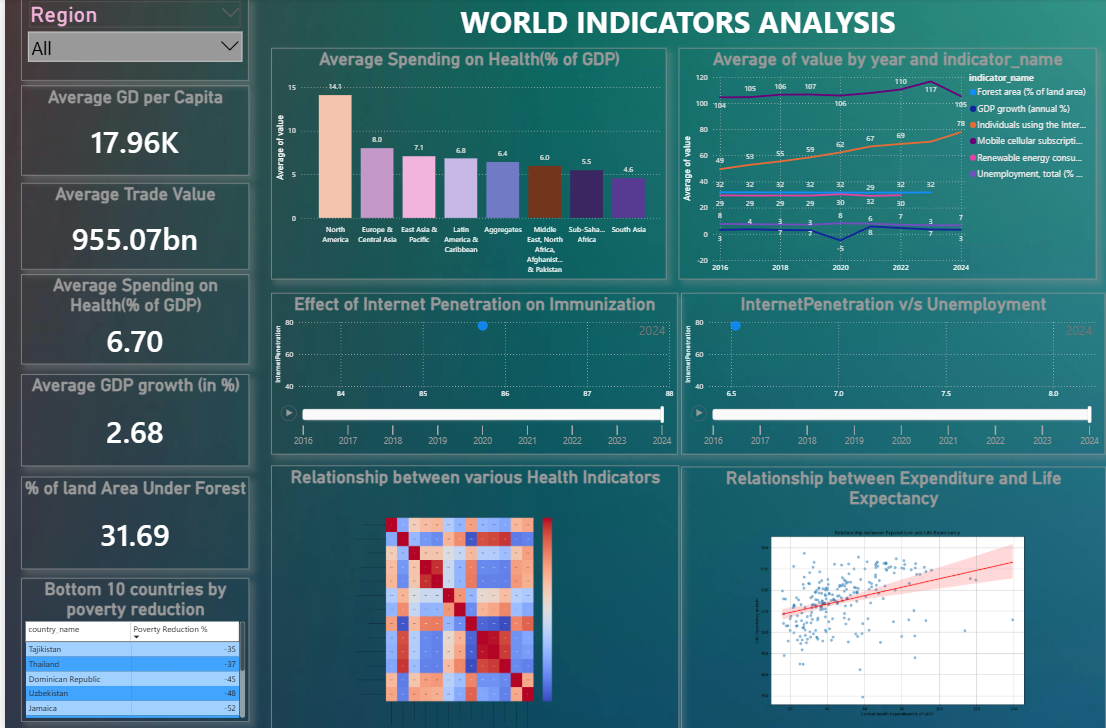

The dashboard page shown, as its layout file describes it:
{"tool":"powerbi","page":{"name":"Page 1","canvas":[1800,1200],"ordinal":0},"visuals":[{"type":"textbox","box":[697.3,0,807.8,81.8],"z":0},{"type":"cardVisual","title":"Average GD per Capita","fields":{"Data":["Avg(economic.value)"]},"box":[26.2,143.8,372.5,147.5],"z":1000},{"type":"cardVisual","title":"Average Trade Value","fields":{"Data":["Avg(trade.value)"]},"box":[26.2,302.5,372.5,141.2],"z":2000},{"type":"cardVisual","title":"Average Spending on Health(% of GDP)","fields":{"Data":["Avg(health.value)"]},"box":[26.2,452.5,372.5,147.5],"z":3000},{"type":"cardVisual","title":"Average GDP growth (in %)","fields":{"Data":["Avg(economic.value)"]},"box":[26.2,615,372.5,150],"z":4000},{"type":"cardVisual","title":"% of land Area Under Forest","fields":{"Data":["Avg(environment.value)"]},"box":[26.2,782.5,372.5,151.2],"z":5000},{"type":"slicer","fields":{"Values":["economic.region"]},"box":[26.6,0,372.2,135],"z":6000},{"type":"columnChart","title":"Average Spending on Health(% of GDP)","fields":{"Category":["health.region"],"Y":["Avg(health.value)"]},"box":[435.6,81.8,646.2,378.3],"z":7000},{"type":"lineChart","fields":{"Category":["line chart.year"],"Y":["Avg(line chart.value)"],"Series":["line chart.indicator_name"]},"box":[1102.3,81.8,683,378.3],"z":8000},{"type":"scatterChart","title":"Effect of Internet Penetration on Immunization","fields":{"X":["Measure Table.Immunization for kids"],"Y":["Measure Table.InternetPenetration"],"Size":["Measure Table.GDPperCapita"],"Category":["scatter plot.year"],"Play":["scatter plot.year"]},"box":[435.6,482.6,664.6,263.8],"z":9000},{"type":"scatterChart","title":" InternetPenetration v/s Unemployment ","fields":{"X":["Measure Table.Youth Unemployment Rate"],"Y":["Measure Table.InternetPenetration"],"Category":["scatter plot.year"],"Size":["Measure Table.GDPperCapita"],"Play":["scatter plot.year"]},"box":[1106.3,482.6,693.3,263.8],"z":10000},{"type":"tableEx","title":"Bottom 10 countries by poverty reduction","fields":{"Values":["poverty.country_name","Measure Table.Poverty Reduction %"]},"box":[26.2,948.8,372.5,235],"z":11000},{"type":"pythonVisual","title":"Relationship between various  Health Indicators","fields":{"Values":["health.country_name","Sum(health.year)","health.indicator_name","Sum(health.value)"]},"box":[435.7,765.7,667.1,434.3],"z":12000},{"type":"pythonVisual","title":"Relationship between Expenditure and Life Expectancy","fields":{"Values":["health.country_name","Sum(health.year)","health.indicator_name","Sum(health.value)"]},"box":[1106,766,694,434],"z":13000}]}

Visuals, with their boxes in screenshot pixels (x1, y1, x2, y2), scaled from the page's 1800x1200 canvas onto the 1106x728 screenshot:
textbox: x1=428 y1=0 x2=925 y2=50
"Average GD per Capita" cardVisual: x1=16 y1=87 x2=245 y2=177
"Average Trade Value" cardVisual: x1=16 y1=184 x2=245 y2=269
"Average Spending on Health(% of GDP)" cardVisual: x1=16 y1=275 x2=245 y2=364
"Average GDP growth (in %)" cardVisual: x1=16 y1=373 x2=245 y2=464
"% of land Area Under Forest" cardVisual: x1=16 y1=475 x2=245 y2=566
slicer - economic.region: x1=16 y1=0 x2=245 y2=82
"Average Spending on Health(% of GDP)" columnChart: x1=268 y1=50 x2=665 y2=279
lineChart - line chart.year x Avg(line chart.value): x1=677 y1=50 x2=1097 y2=279
"Effect of Internet Penetration on Immunization" scatterChart: x1=268 y1=293 x2=676 y2=453
" InternetPenetration v/s Unemployment " scatterChart: x1=680 y1=293 x2=1105 y2=453
"Bottom 10 countries by poverty reduction" tableEx: x1=16 y1=576 x2=245 y2=718
"Relationship between various  Health Indicators" pythonVisual: x1=268 y1=465 x2=678 y2=727
"Relationship between Expenditure and Life Expectancy" pythonVisual: x1=680 y1=465 x2=1105 y2=727
